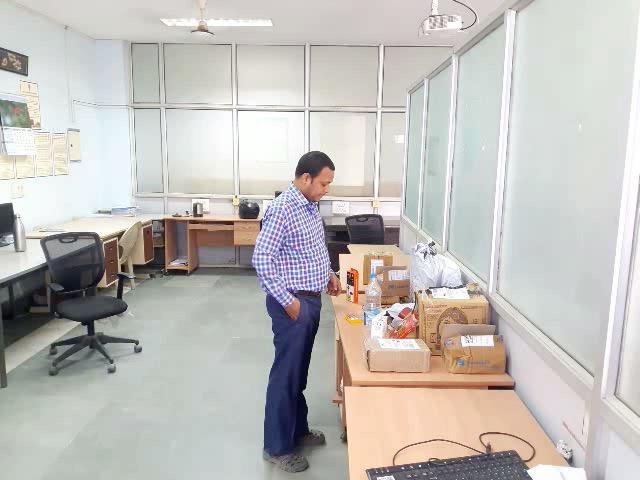shoplifting: (224, 253, 354, 356)
